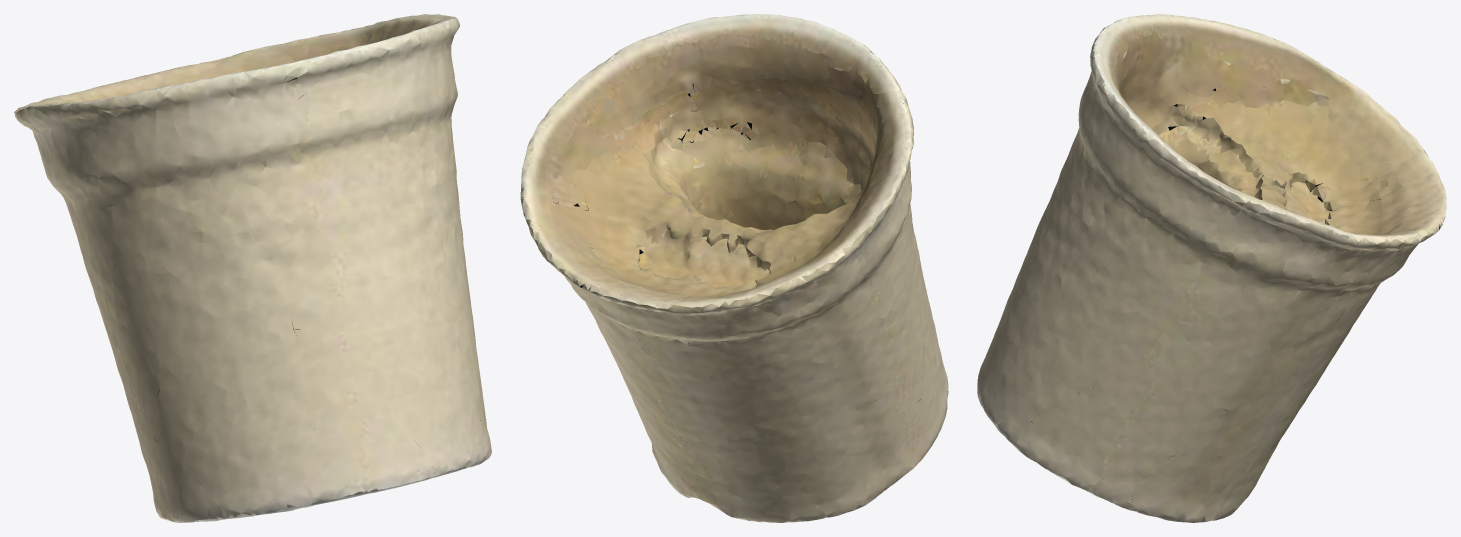
3 renders of one model, left to right at view 1: azimuth 30°, elevation 25°; view 2: azimuth 150°, elevation 25°; view 3: azimuth 270°, elevation 25°, orthographic. The views are drawn at different scales.
Parts seen in each view (by area): view 1: world; view 2: world; view 3: world.
Boxes of the visible parts, bbox=[...] form: world: bbox=[14, 14, 491, 522]; world: bbox=[520, 14, 948, 522]; world: bbox=[977, 14, 1446, 522].
Bounding box in the file's own units: 0.8187 × 0.9923 × 0.9607.
Materials: 1 (1 with a texture image).
